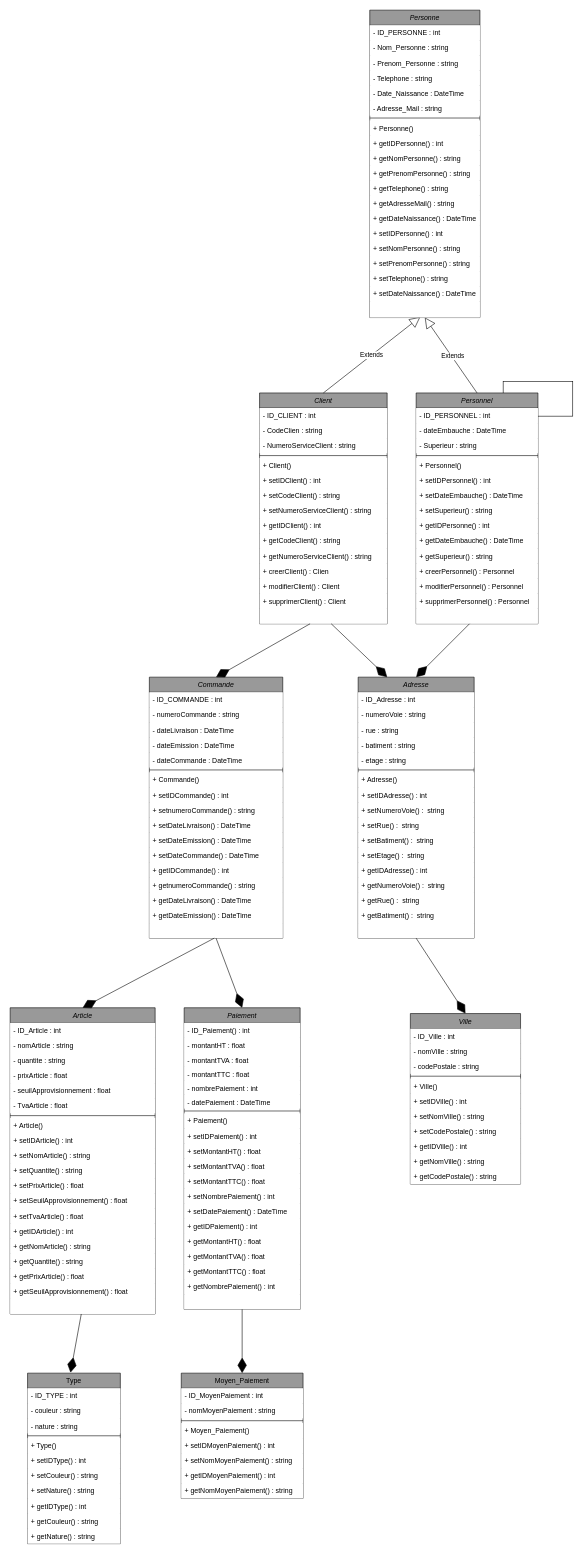
The diagram is 583 pixels wide and 1556 high, and some of its shapes have lost their labels. Here are the shapes that lost their labels. From the top down, the centre of each, then its label:
At (x=424, y=309): "+ setAdresseMail() : string".
At (x=323, y=616): "+ afficherClient() : Client".
At (x=477, y=616): "+ afficherPersonnel() : Personnel".
At (x=215, y=930): "+ getDateCommande() : DateTime".
At (x=416, y=930): "+ getEtage() : string".
At (x=82, y=1306): "+ getTvaArticle() : float".
At (x=242, y=1301): "+ getDatePaiement() : DateTime".
